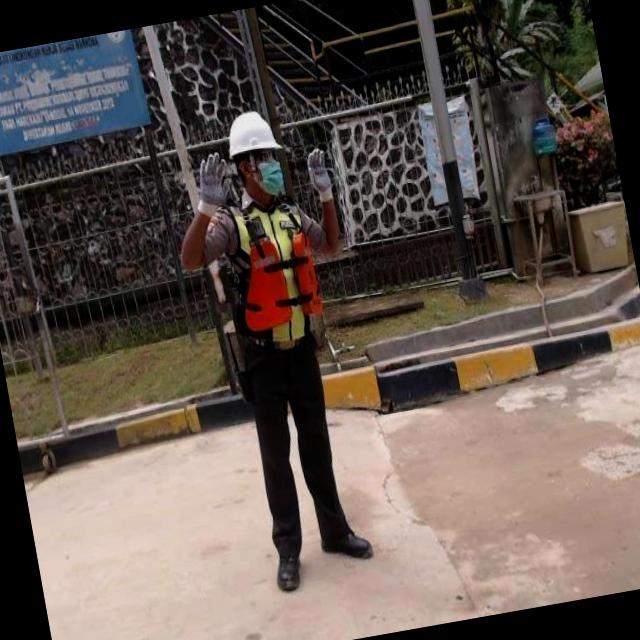vest: (208, 188, 332, 362)
